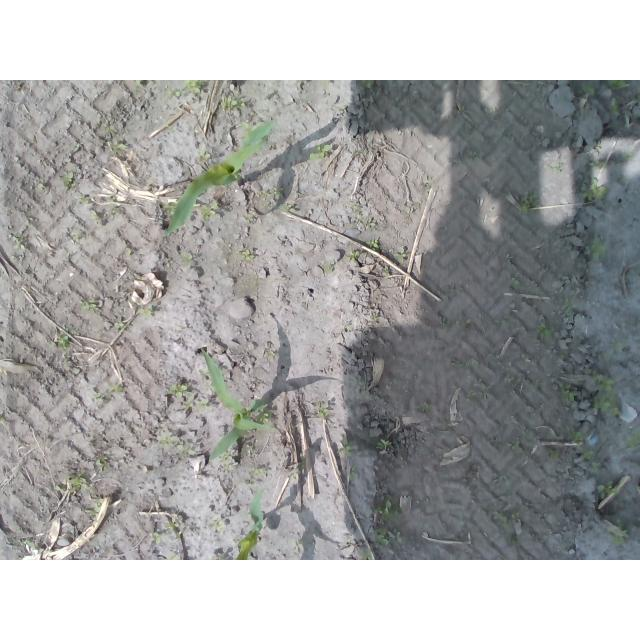Maize: (169, 119, 276, 234), (201, 348, 268, 461), (236, 485, 266, 560)
Weeds: (371, 496, 401, 549), (591, 371, 622, 417), (492, 510, 528, 547), (496, 433, 539, 456), (160, 436, 196, 458), (92, 382, 124, 403), (580, 447, 605, 473), (583, 177, 606, 204), (60, 323, 76, 351), (201, 200, 222, 220), (309, 142, 331, 161), (222, 96, 247, 112), (519, 196, 538, 217), (589, 240, 608, 260), (535, 320, 554, 340), (597, 480, 617, 499), (172, 382, 193, 400), (17, 537, 38, 553), (562, 385, 579, 404), (625, 429, 640, 449), (89, 497, 102, 520), (69, 475, 88, 489), (81, 297, 100, 311), (135, 306, 155, 319), (168, 521, 181, 540), (374, 439, 391, 453), (611, 527, 626, 542), (346, 250, 363, 263), (185, 80, 207, 90), (608, 80, 629, 90), (239, 249, 254, 263), (342, 442, 355, 458), (392, 248, 408, 261), (569, 431, 583, 445), (95, 455, 109, 469), (149, 532, 163, 545), (591, 158, 606, 170), (366, 238, 381, 250), (111, 142, 127, 153), (359, 80, 378, 89), (62, 172, 72, 189), (198, 400, 211, 413), (200, 150, 213, 163), (547, 448, 561, 460), (580, 80, 593, 92), (364, 218, 376, 231), (258, 412, 271, 424), (14, 235, 25, 249), (607, 99, 618, 113), (416, 403, 433, 412), (167, 87, 182, 97), (284, 204, 298, 214), (511, 276, 522, 288), (254, 468, 267, 478), (112, 320, 126, 329), (318, 407, 330, 417), (593, 142, 603, 152)
